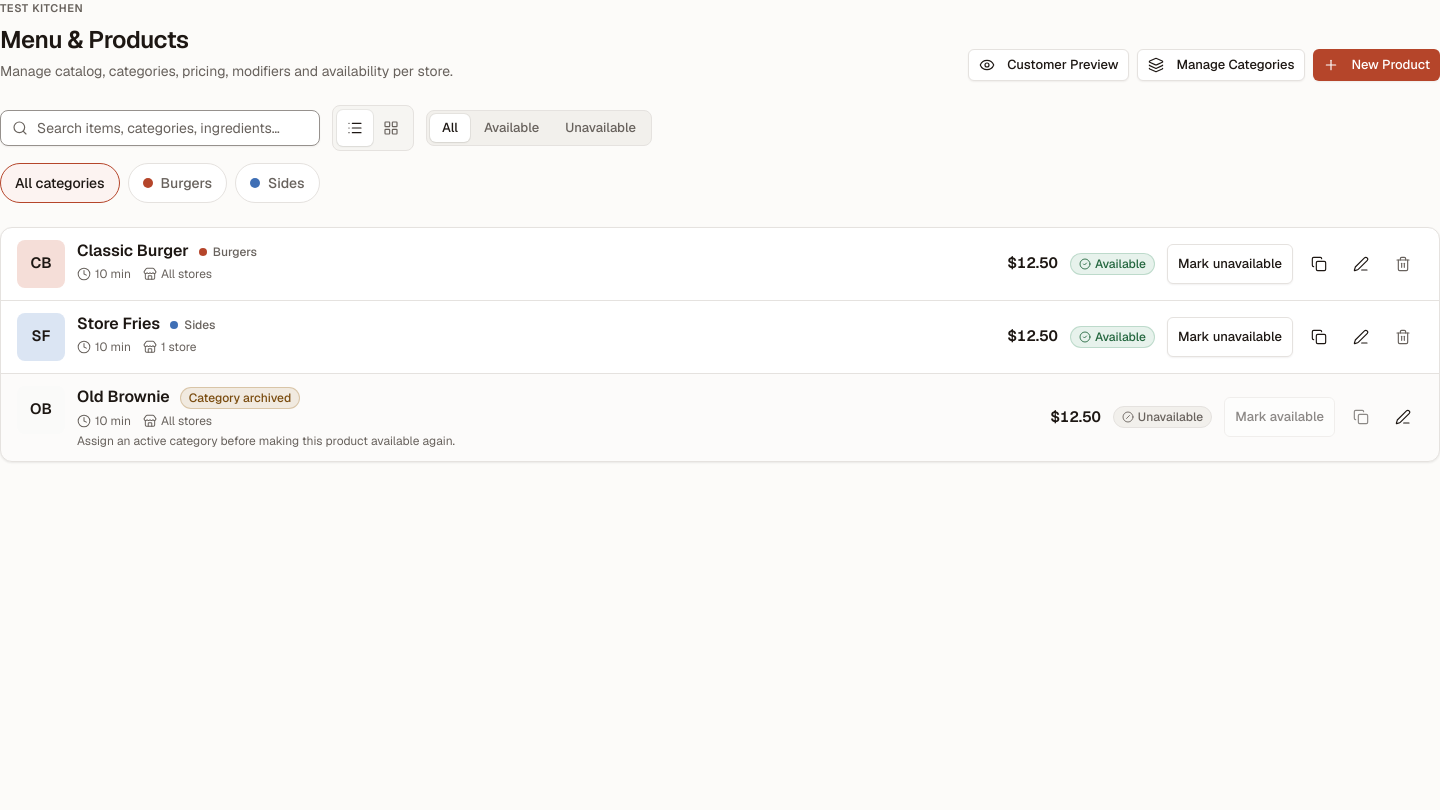
owner: category lifecycle › does not offer archiving a category with active products, and explains why
The width and height of the screenshot is (1440, 810).
Expected: the heading "Classic Burger" is shown, 77,240 -> 189,262
Step 1. Click the button "Manage Categories" → [1221, 64], box 1138,48 -> 1305,80
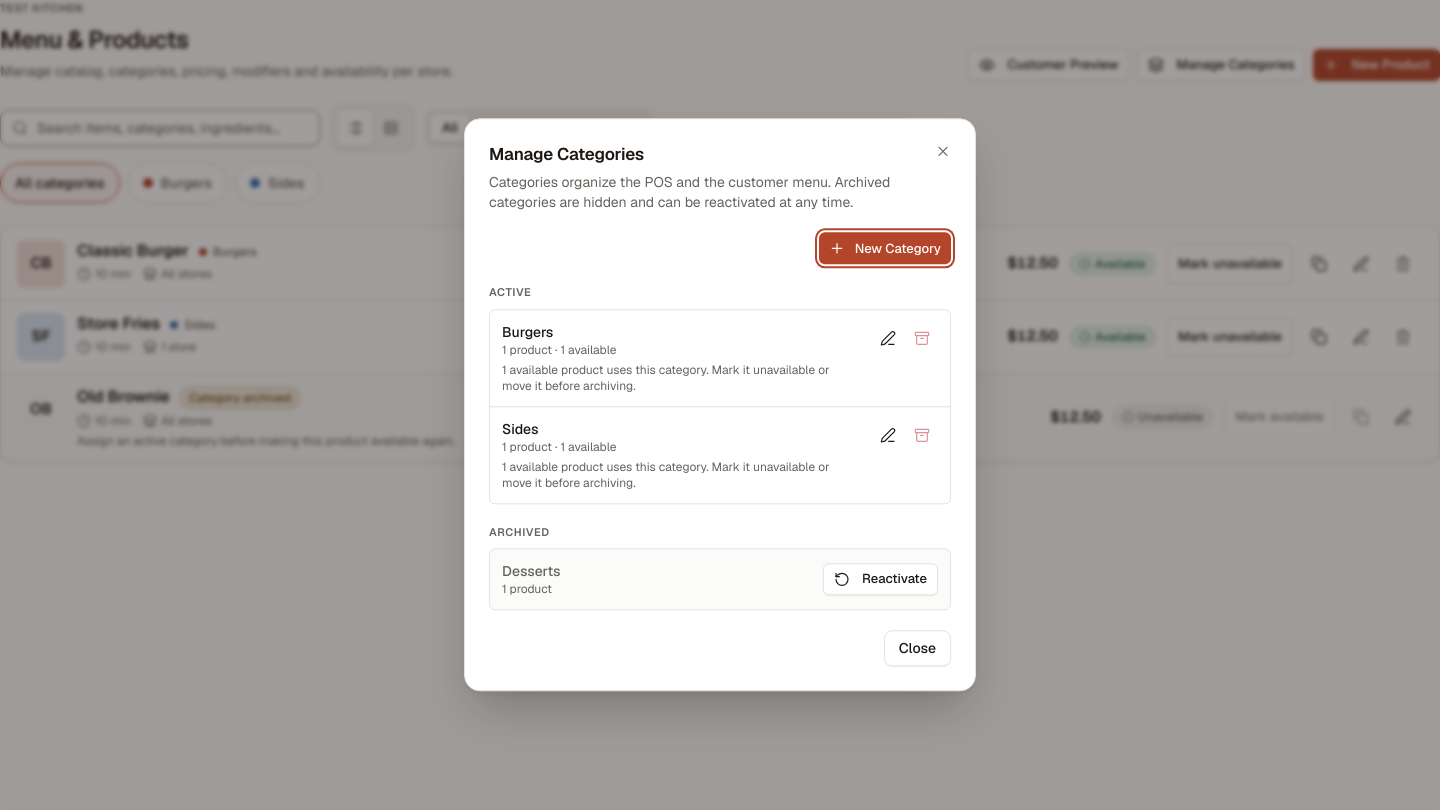
Expected: the button named "Archive Burgers" is disabled, 906,322 -> 938,354
Expected: the 1st text "1 available product uses this category" is shown, 502,362 -> 830,394
Expected: the 1st text "1 product · 1 available" is shown, 502,342 -> 617,358
